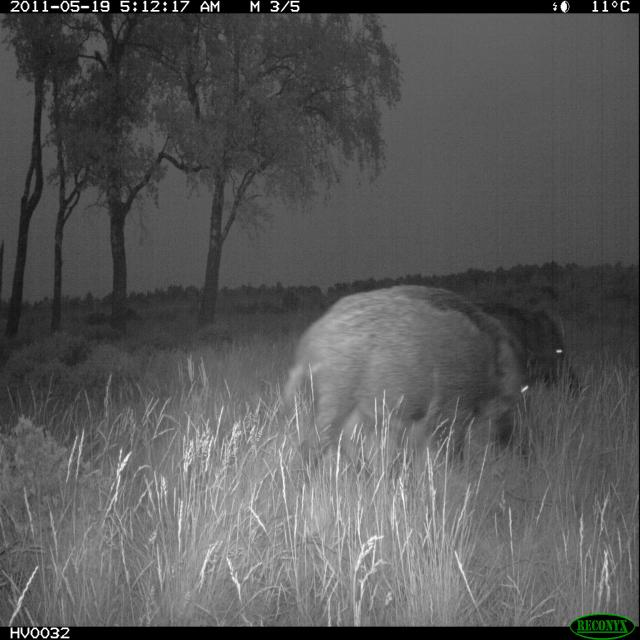boar: (248, 251, 556, 476), (403, 275, 587, 420)
